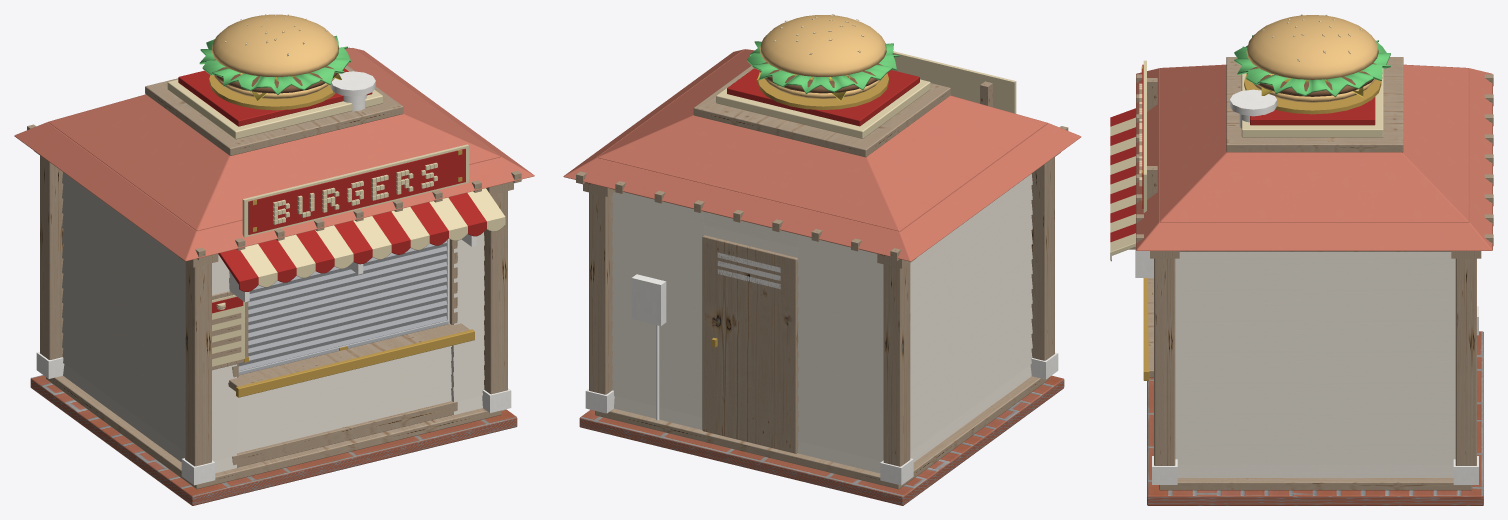
File: burger.glb
3 renders of one model, left to right at view 1: azimuth 30°, elevation 25°; view 2: azimuth 150°, elevation 25°; view 3: azimuth 270°, elevation 25°, orthographic. The views are drawn at different scales.
Parts seen in each view (by area): view 1: Static_GroundRoot_boards_cream, Static_GroundRoot_roof_terracotta, Static_GroundRoot_timber, Static_ClosedShutter_mat_burger_shutter, Plinth_Foundation, Static_GroundRoot_paint_red, Static_GroundRoot_mat_burger_bun, Static_FrontAwning_paint_red, Static_FrontAwning_cream, Static_GroundRoot_cream, Static_GroundRoot_brass, Static_GroundRoot_metal (+5 smaller); view 2: Static_GroundRoot_boards_cream, Static_GroundRoot_timber, Static_GroundRoot_roof_terracotta, Plinth_Foundation, Static_GroundRoot_mat_burger_bun, Static_GroundRoot_cream, Static_GroundRoot_metal, Static_GroundRoot_paint_red, Burger_Lettuce, Static_GroundRoot_brass, Burger_Patty; view 3: Static_GroundRoot_boards_cream, Static_GroundRoot_roof_terracotta, Static_GroundRoot_timber, Static_GroundRoot_mat_burger_bun, Plinth_Foundation, Static_GroundRoot_cream, Static_GroundRoot_metal, Burger_Lettuce, Static_GroundRoot_paint_red, Static_GroundRoot_brass, Static_FrontAwning_cream, Static_FrontAwning_paint_red (+1 smaller).
Part boxes in pixels (bbox=[...]): Static_GroundRoot_boards_cream: bbox=[62, 172, 484, 473]; Static_GroundRoot_roof_terracotta: bbox=[14, 48, 534, 261]; Static_GroundRoot_timber: bbox=[27, 47, 521, 489]; Static_ClosedShutter_mat_burger_shutter: bbox=[238, 240, 448, 375]; Plinth_Foundation: bbox=[30, 375, 517, 505]; Static_GroundRoot_paint_red: bbox=[178, 68, 465, 234]; Static_GroundRoot_mat_burger_bun: bbox=[211, 14, 338, 99]; Static_FrontAwning_paint_red: bbox=[218, 193, 486, 291]; Static_FrontAwning_cream: bbox=[240, 188, 505, 287]; Static_GroundRoot_cream: bbox=[167, 14, 469, 237]; Static_GroundRoot_brass: bbox=[209, 75, 474, 397]; Static_GroundRoot_metal: bbox=[36, 71, 511, 485]; Static_GroundRoot_boards_cream: bbox=[612, 174, 1032, 473]; Static_GroundRoot_timber: bbox=[576, 65, 1068, 489]; Static_GroundRoot_roof_terracotta: bbox=[563, 49, 1081, 261]; Plinth_Foundation: bbox=[579, 375, 1064, 505]; Static_GroundRoot_mat_burger_bun: bbox=[760, 15, 886, 98]; Static_GroundRoot_cream: bbox=[716, 14, 1016, 138]; Static_GroundRoot_metal: bbox=[585, 252, 1058, 485]; Static_GroundRoot_paint_red: bbox=[727, 68, 919, 126]; Burger_Lettuce: bbox=[747, 41, 899, 94]; Static_GroundRoot_brass: bbox=[711, 71, 888, 347]; Burger_Patty: bbox=[760, 62, 882, 93]; Static_GroundRoot_boards_cream: bbox=[1175, 251, 1455, 477]; Static_GroundRoot_roof_terracotta: bbox=[1136, 64, 1492, 250]; Static_GroundRoot_timber: bbox=[1129, 57, 1493, 490]; Static_GroundRoot_mat_burger_bun: bbox=[1246, 15, 1378, 102]; Plinth_Foundation: bbox=[1147, 331, 1483, 505]; Static_GroundRoot_cream: bbox=[1143, 14, 1383, 212]; Static_GroundRoot_metal: bbox=[1135, 89, 1478, 484]; Burger_Lettuce: bbox=[1234, 35, 1390, 97]; Static_GroundRoot_paint_red: bbox=[1142, 64, 1375, 208]; Static_GroundRoot_brass: bbox=[1141, 66, 1381, 380]; Static_FrontAwning_cream: bbox=[1110, 117, 1135, 261]; Static_FrontAwning_paint_red: bbox=[1110, 108, 1135, 242].
Size of the model in its own units: 3.55 by 3.71 by 3.24.
13 materials, 5 textured.
